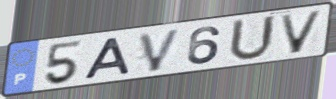5: (42, 39, 83, 87)
6: (188, 25, 222, 65)
A: (82, 36, 133, 81)
U: (226, 13, 278, 63)
V: (277, 9, 326, 56), (136, 27, 184, 74)
